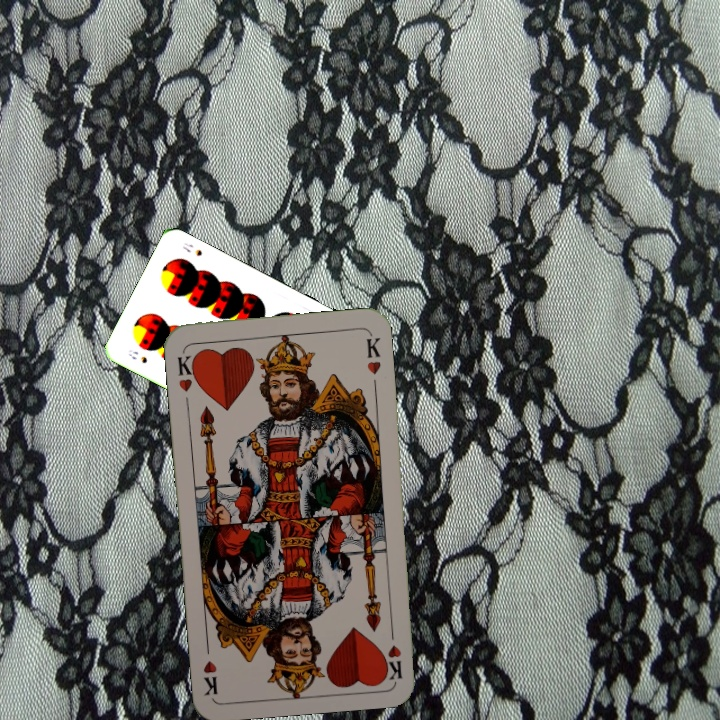HK: (383, 622, 405, 681), (173, 348, 201, 394)
S8: (125, 345, 150, 366)
